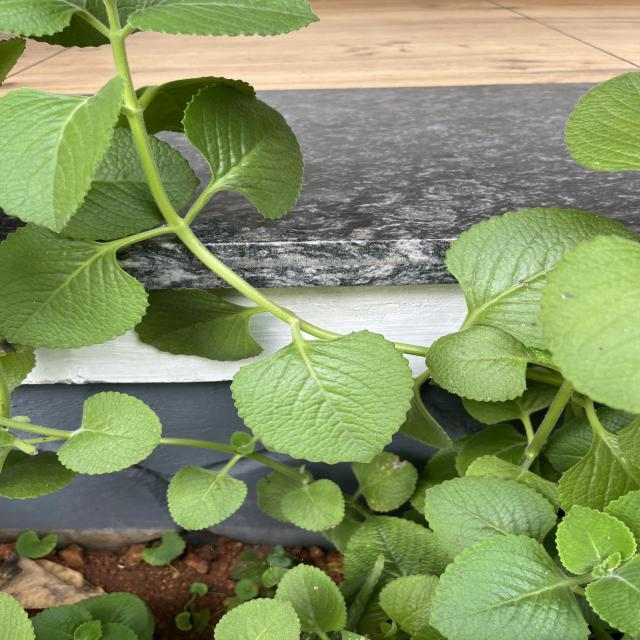Plectranthus barbatus: (442, 205, 636, 343), (228, 328, 416, 466), (0, 72, 130, 234), (0, 222, 152, 352), (179, 80, 306, 222), (428, 532, 592, 640), (424, 475, 558, 560), (134, 285, 266, 362), (56, 390, 165, 476), (424, 324, 534, 402), (555, 502, 637, 575), (165, 463, 250, 532), (277, 562, 350, 635), (350, 450, 420, 512), (213, 597, 304, 640), (280, 477, 348, 533)
